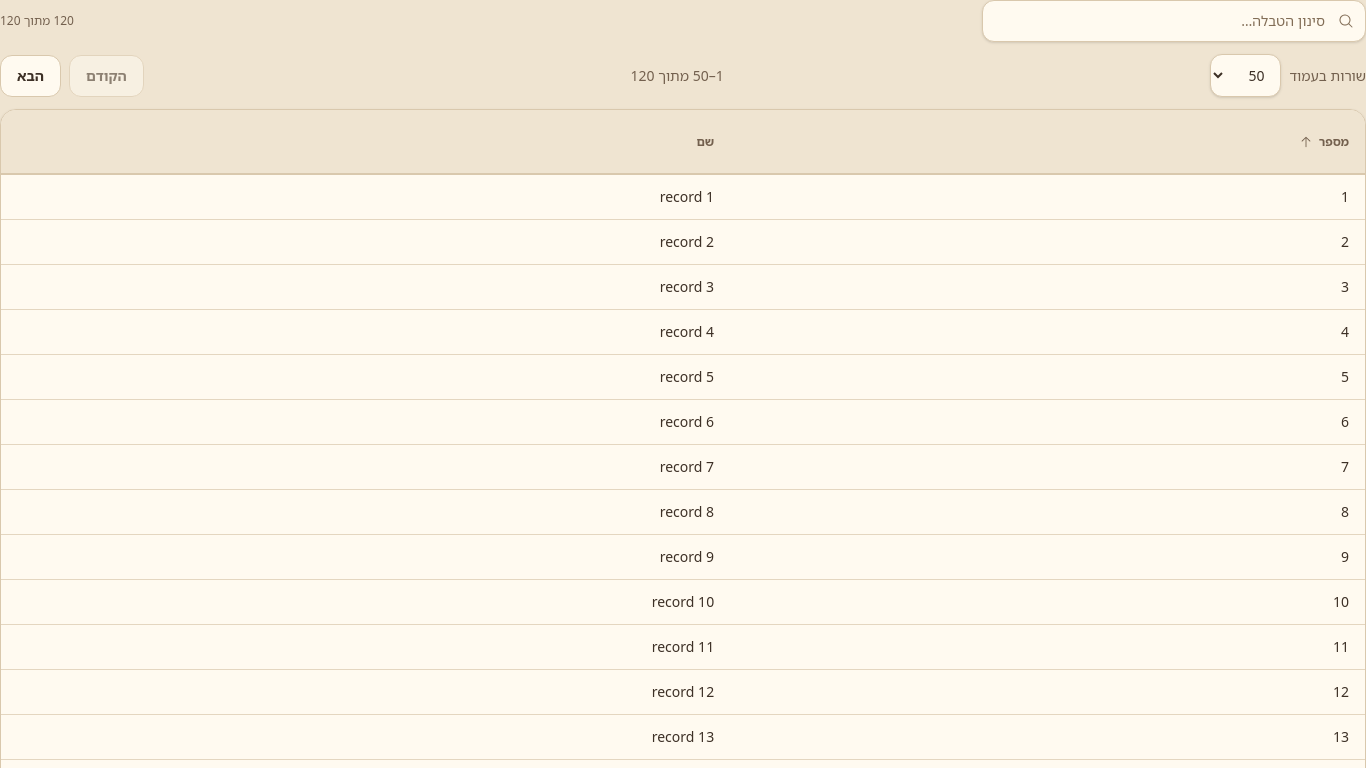
Test case: DataTable pagination › searches and sorts the full row set before paging, resetting query and sort to page one
Step 1. Click the button with aria-label "העמוד הבא" → (30, 76), box [0,54,61,96]
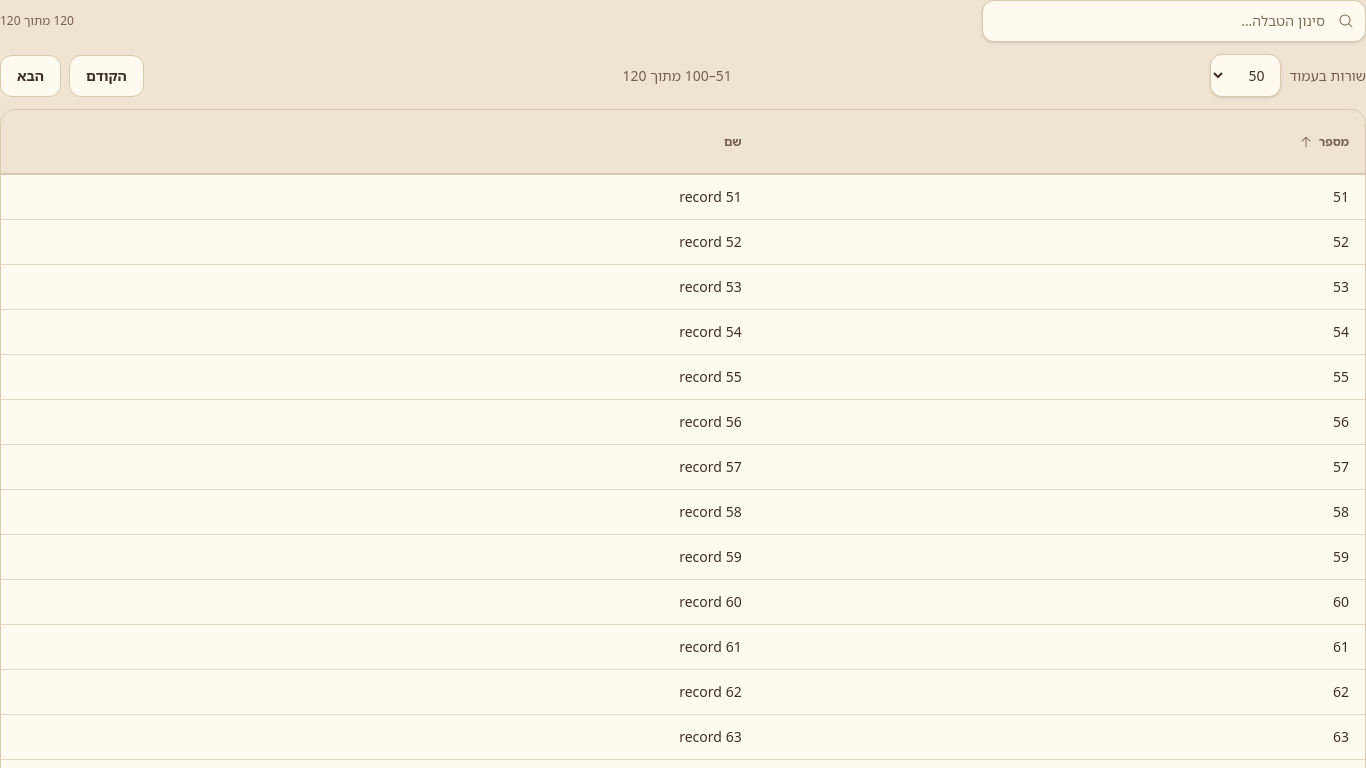
Step 2. Type "record 120" into the field labelled "סינון הטבלה" → (1174, 21), box [982,0,1365,42]
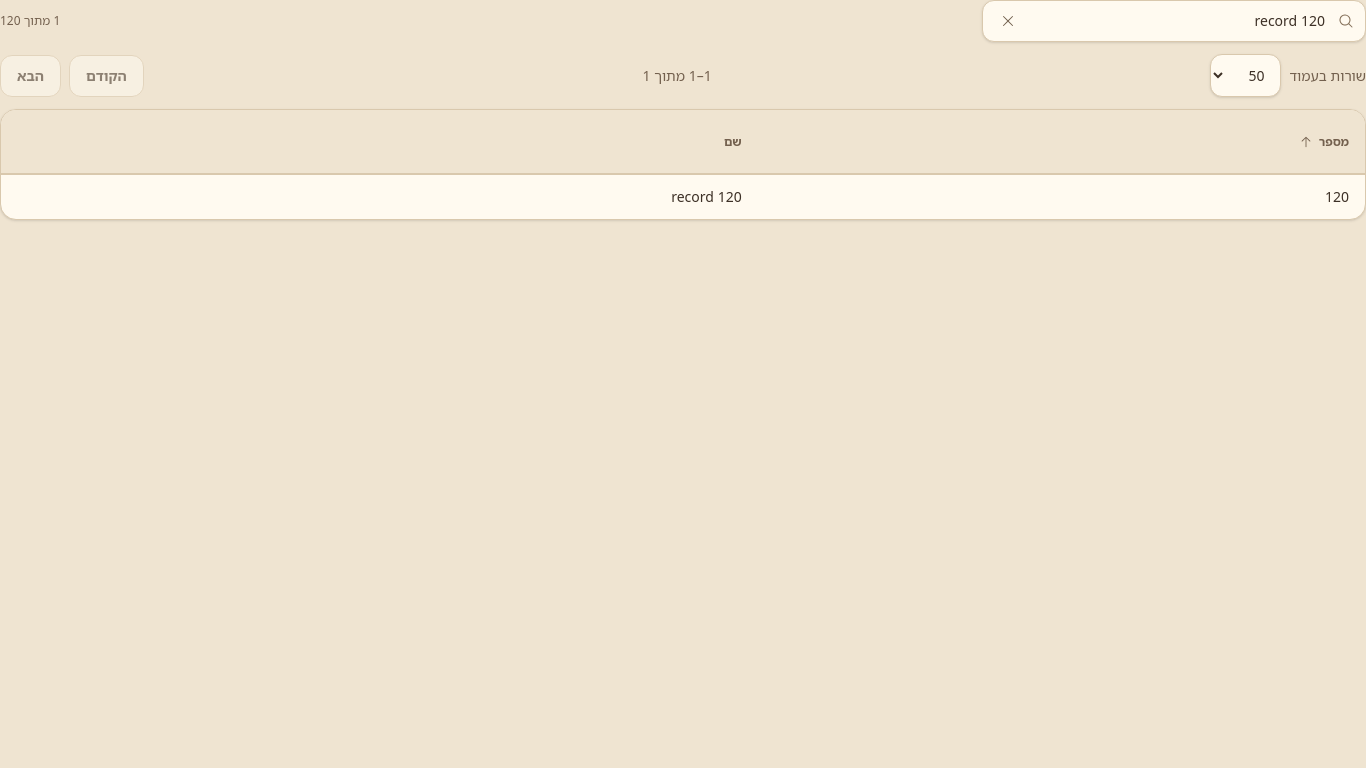
Expected: the text "120" is shown, [758,174,1365,219]
Now the text "1–1 מתוך 1" is shown, box [642,66,712,86]
Step 3. Click the button named "ניקוי סינון" → (1008, 21), box [988,1,1028,41]
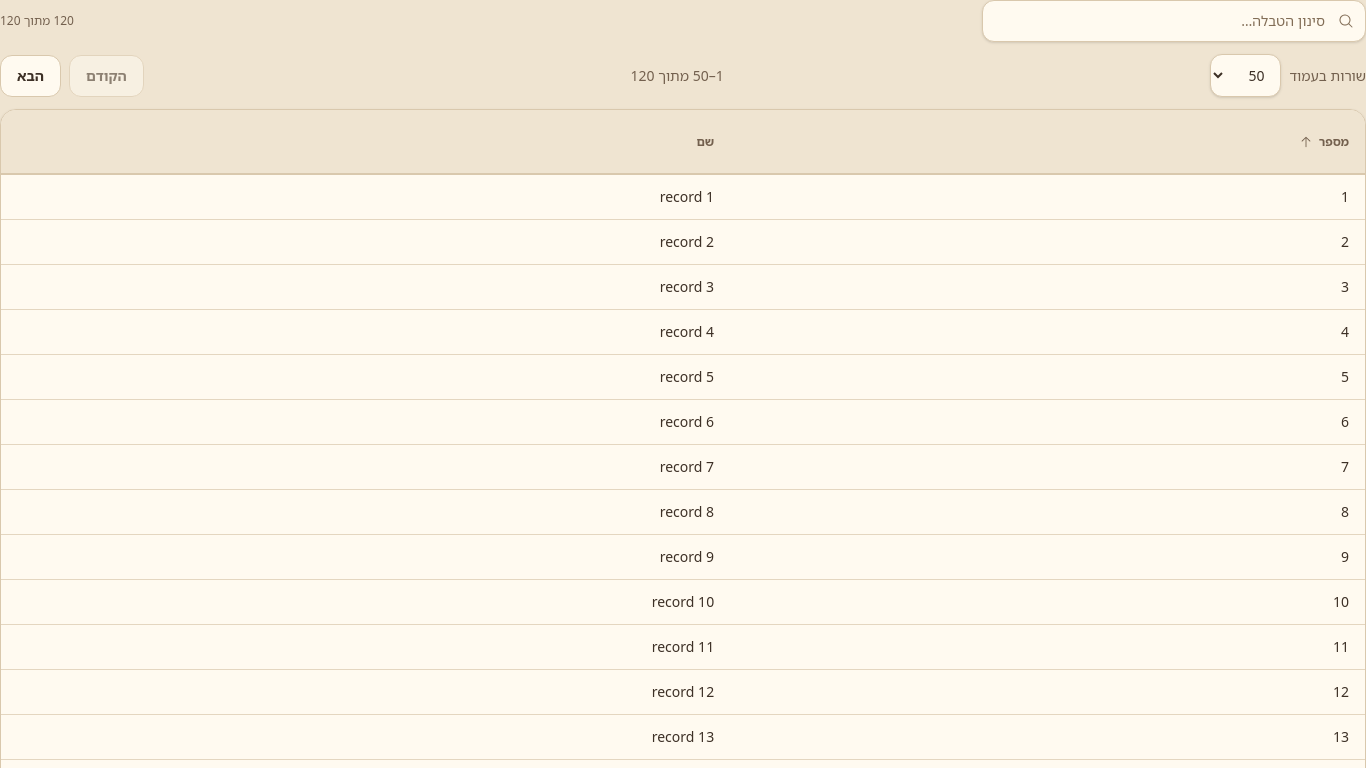
Now the text "1–50 מתוך 120" is shown, box [630,66,724,86]
Step 4. Click the button with aria-label "העמוד הבא" → (30, 76), box [0,54,61,96]
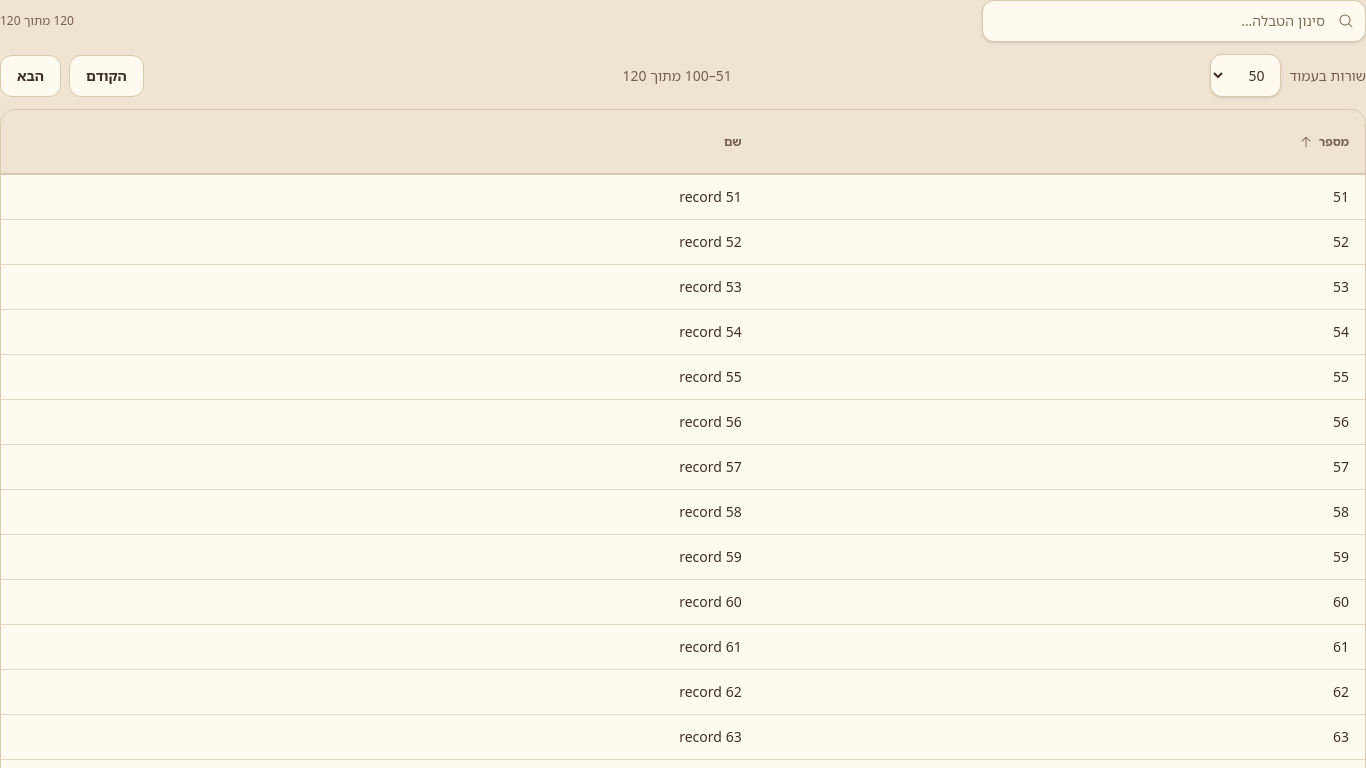
Step 5. Click the button "מספר" → (1324, 142), box [1299,122,1349,162]
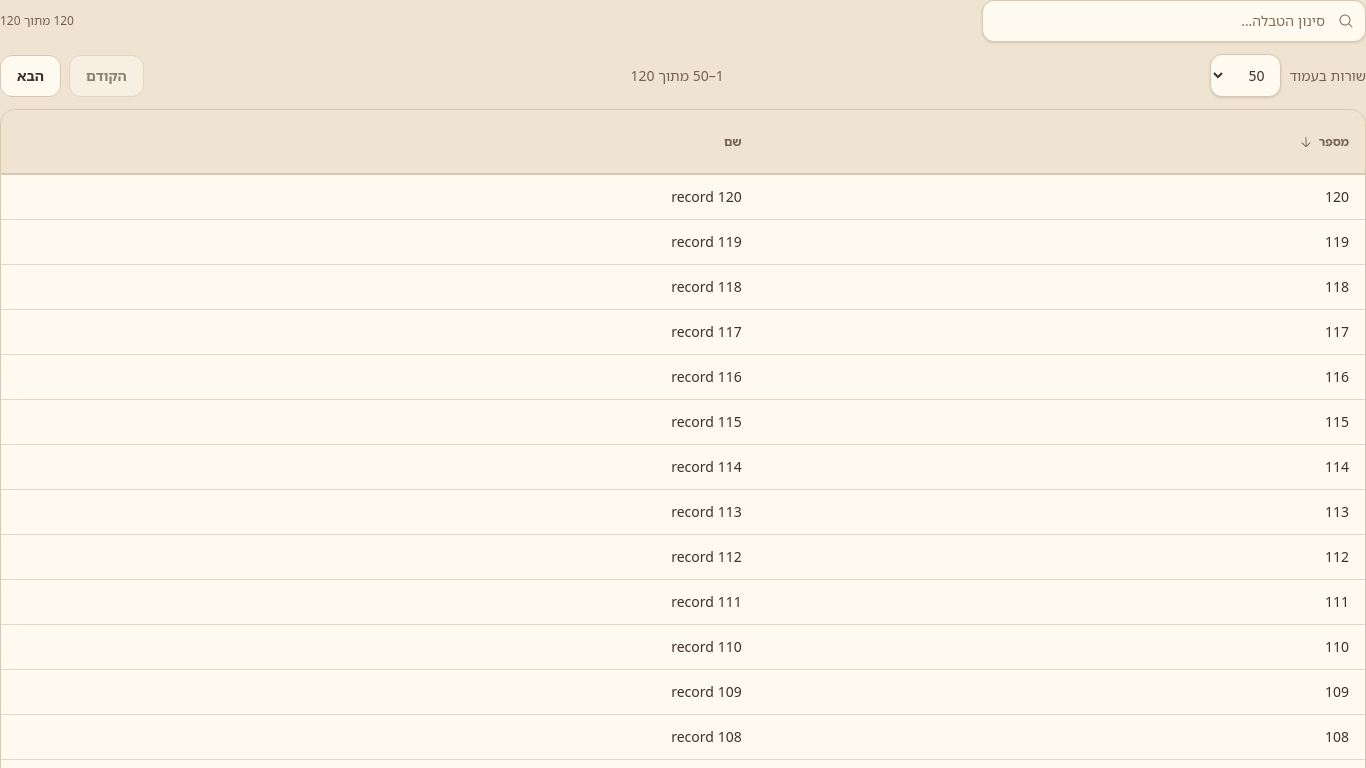
Now the text "1–50 מתוך 120" is shown, box [630,66,724,86]
Now the text "120" is shown, box [758,174,1365,220]
